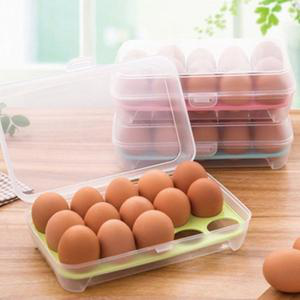egg: (32, 160, 225, 264), (119, 42, 289, 152), (261, 234, 300, 293)
